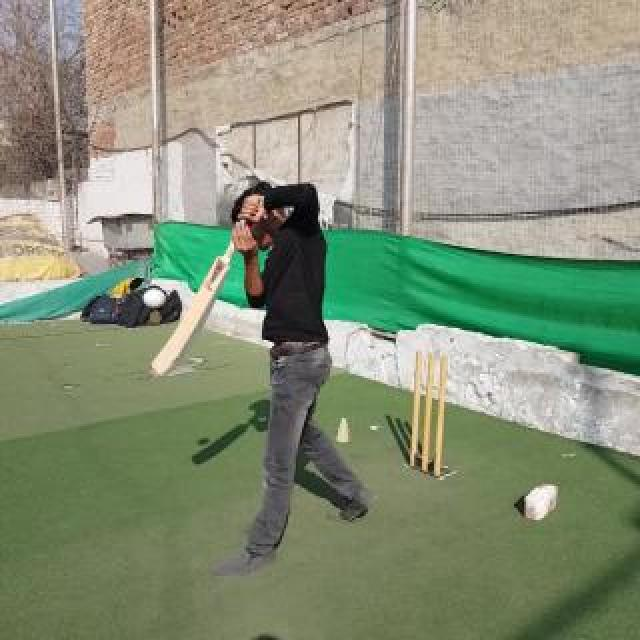ball: (143, 288, 165, 308)
bat: (150, 196, 262, 378)
